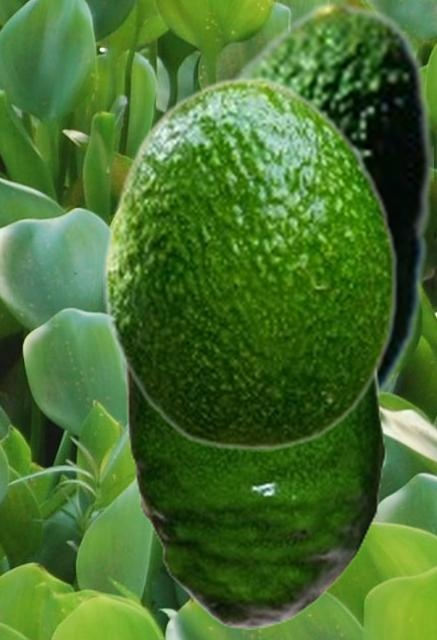avocado: (107, 0, 432, 409), (103, 76, 398, 450), (123, 367, 385, 628)
